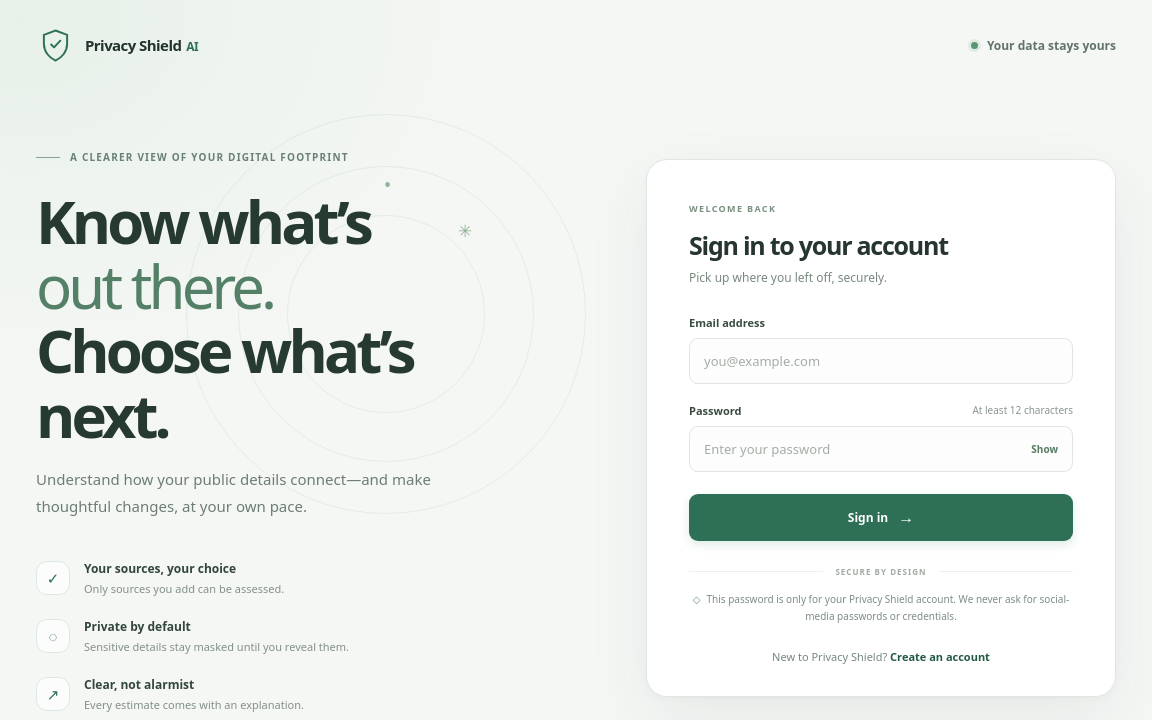
Scenario: account access › validates credentials before sending a request
Step 1. Click the button "Sign in →" → (881,517), box left=689, top=494, right=1073, bottom=540
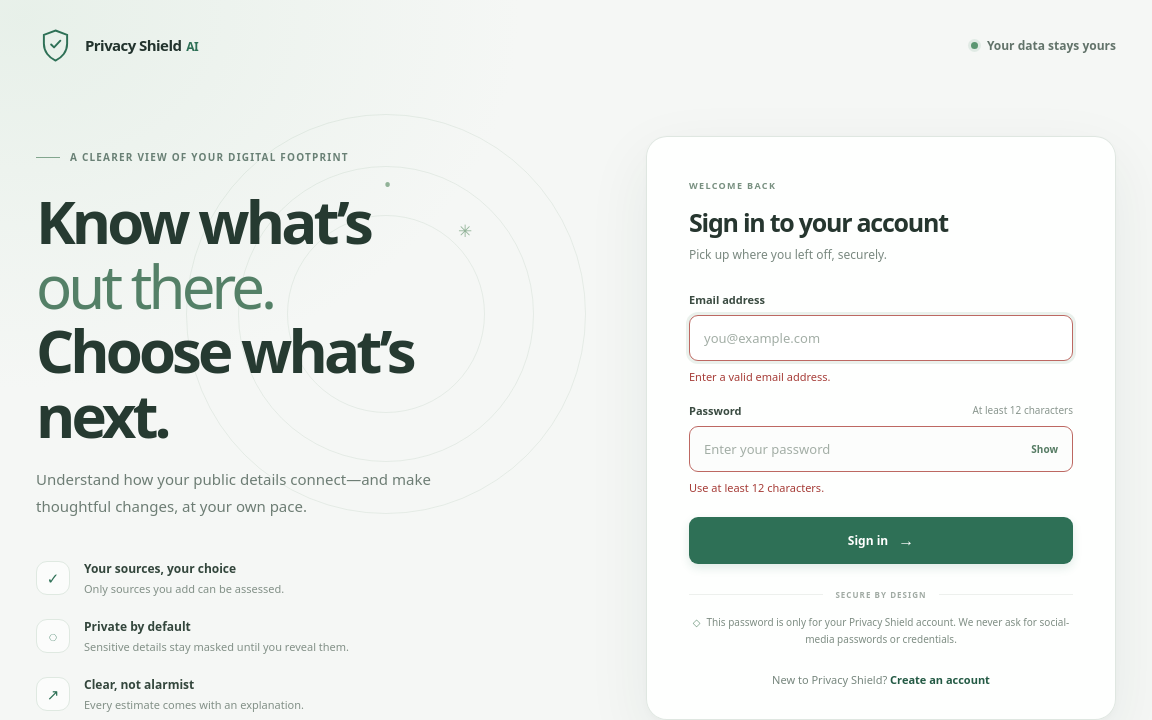
expect the text "Enter a valid email address." is shown: met, box left=689, top=368, right=830, bottom=384
expect the text "Use at least 12 characters." is shown: met, box left=689, top=480, right=824, bottom=494
